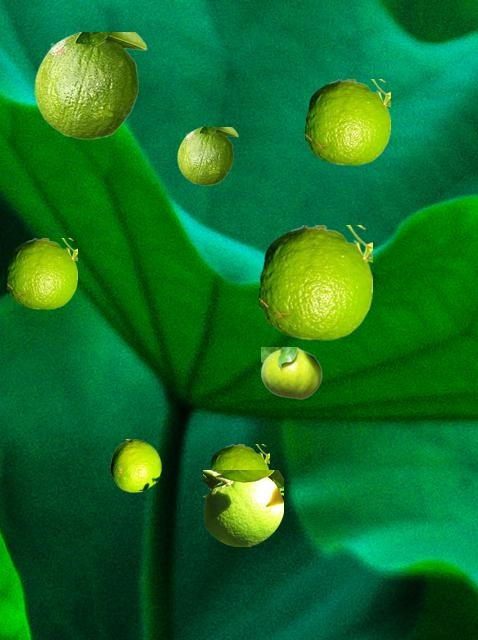dalandan: (259, 225, 371, 339), (34, 32, 146, 138), (305, 79, 389, 164), (203, 470, 282, 545), (7, 238, 76, 308), (177, 127, 237, 184), (261, 347, 321, 398), (208, 444, 268, 489), (110, 439, 160, 491)
